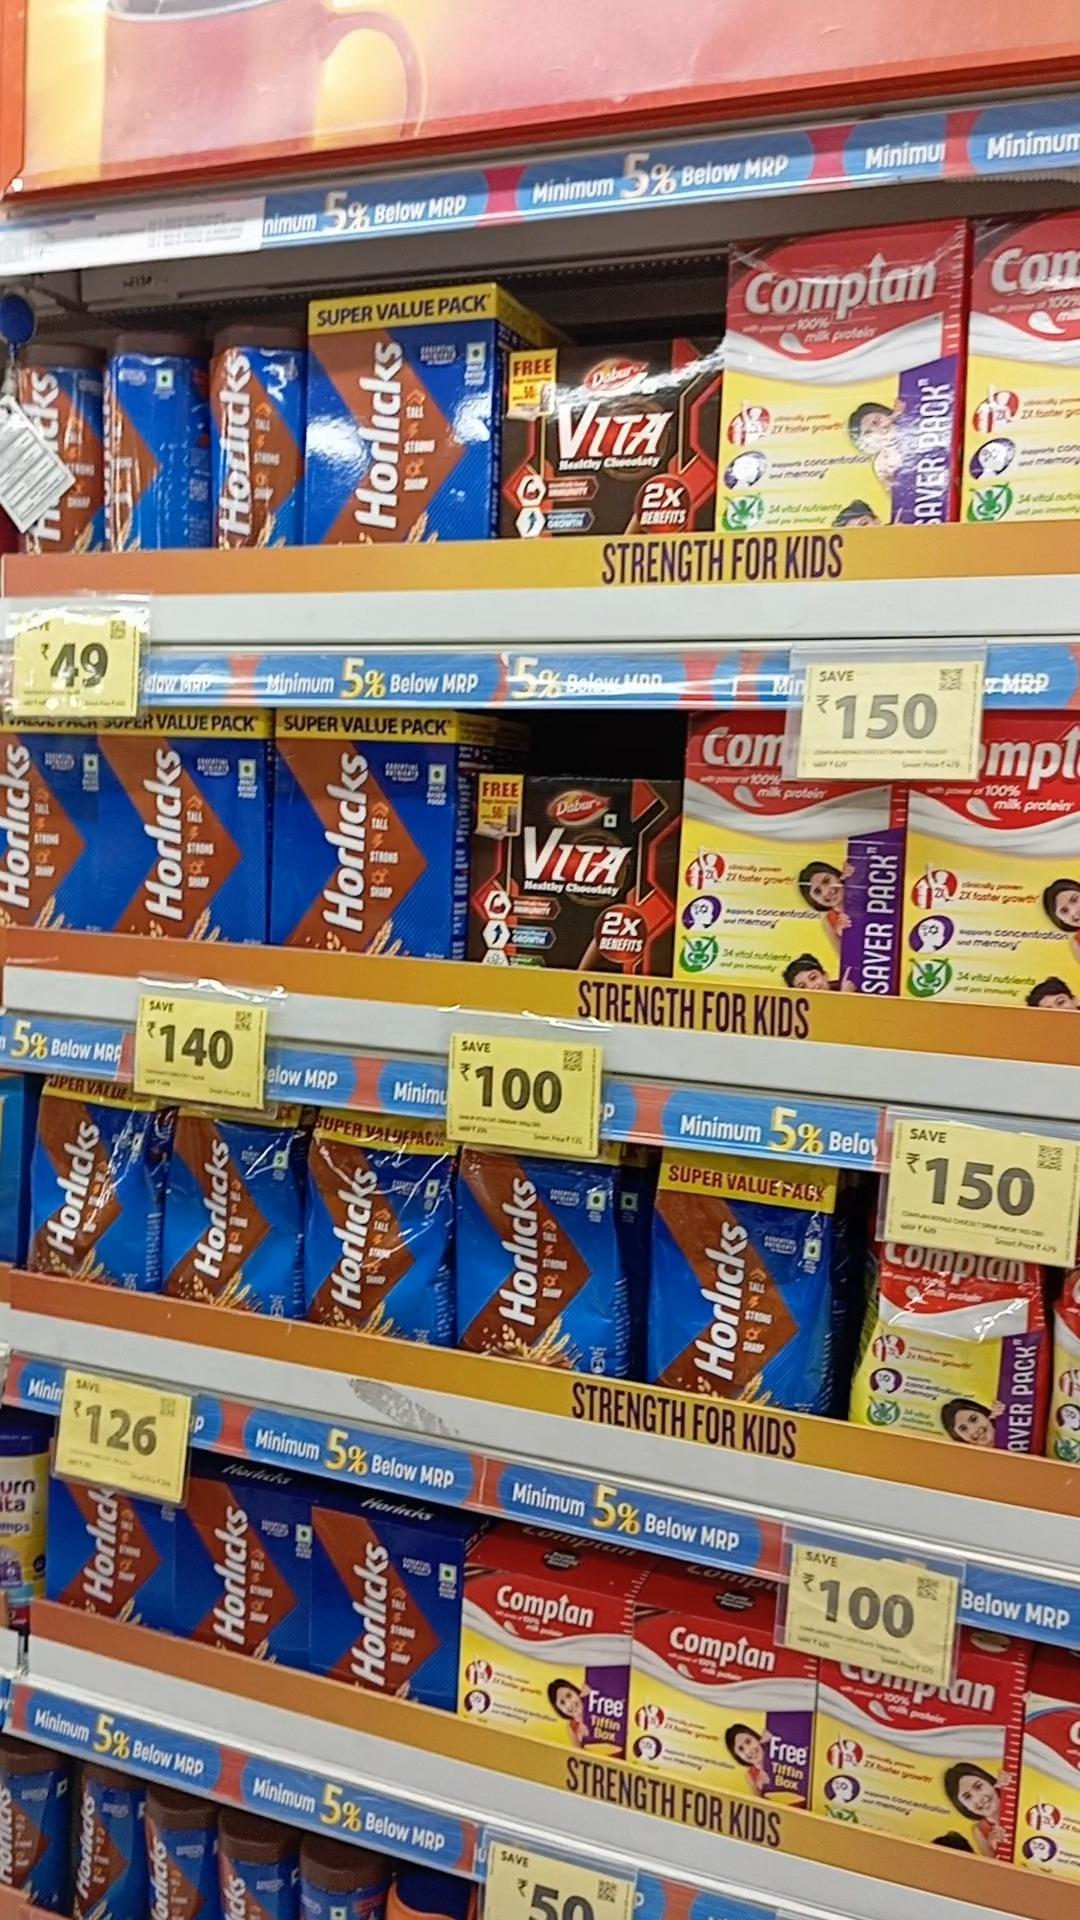COMPLAN_CHOCOLATE_1_KG_PACK: (724, 235, 953, 530), (684, 709, 893, 1002), (963, 211, 1080, 526)
COMPLAN_CHOCOLATE_500_GMS_JAR: (632, 1606, 796, 1803), (460, 1567, 622, 1762)
COMPLAN_RC_POUCH_700_GMS_12: (868, 1237, 1047, 1453)
HORLICK_CHOCOLATE_1_KG_JAR: (207, 331, 290, 545), (9, 328, 86, 556), (96, 342, 164, 558)
HORLICK_CHOCOLATE_1_KG_PACK: (269, 700, 447, 957), (309, 299, 491, 543), (115, 702, 257, 940), (0, 711, 108, 935)
HORLICK_CHOCOLATE_500_G_JAR: (67, 1762, 141, 1920), (0, 1733, 61, 1907), (144, 1776, 202, 1920)
HORLICK_CHOCOLATE_500_G_PACK: (320, 1518, 460, 1702), (189, 1476, 315, 1664), (57, 1480, 175, 1630)
HORLICK_CHOCOLATE_750_G_POUCH: (655, 1153, 824, 1396), (462, 1139, 615, 1377), (311, 1110, 438, 1338), (170, 1092, 294, 1311), (33, 1072, 154, 1291)
